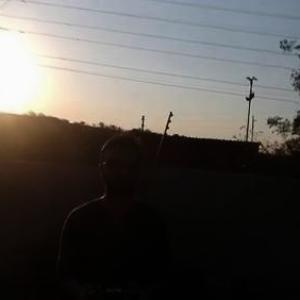follow: (50, 125, 181, 299)
